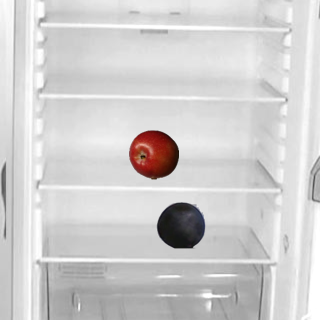Apple Braeburn: (128, 129, 178, 179)
Grape Blue: (155, 199, 205, 249)
